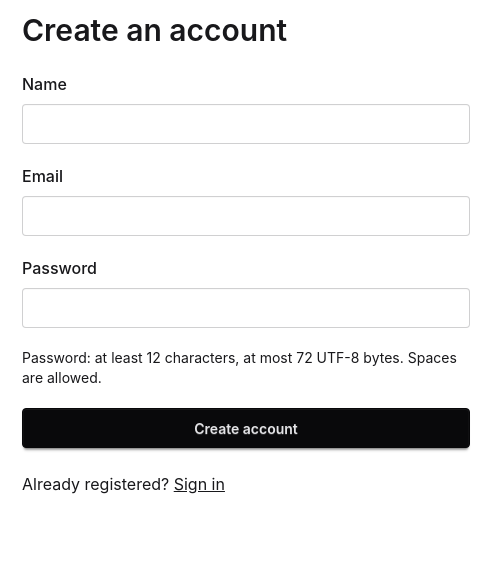
Test: submits labeled registration fields and displays server field errors
Type "Example" into the field labelled "Name". click: (246, 124)
box: left=22, top=104, right=470, bottom=144
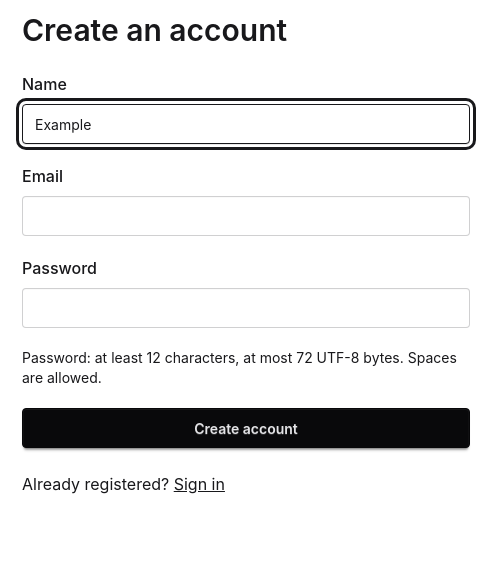
Type "example@example.com" into the field labelled "Email". click: (246, 216)
box: left=22, top=196, right=470, bottom=236
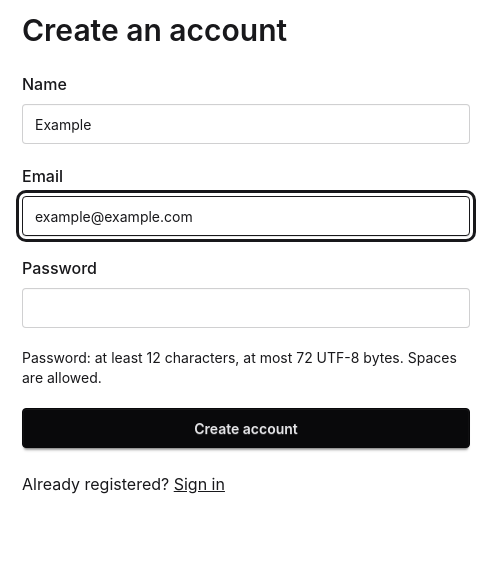
Type "a-long-test-password" into the password field labelled "Password". click: (246, 308)
box: left=22, top=288, right=470, bottom=328
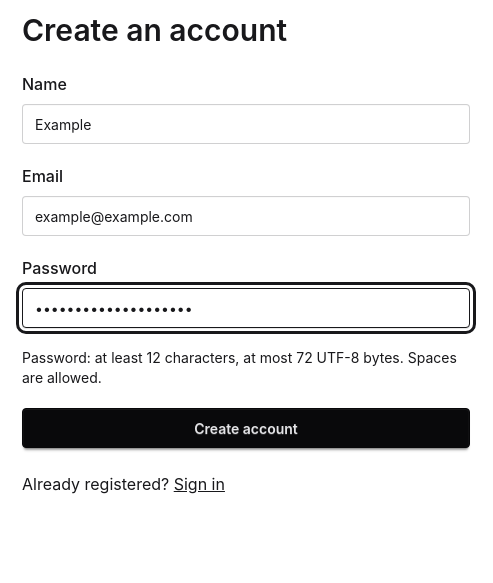
Click the button "Create account". click: (246, 428)
box: left=22, top=408, right=470, bottom=448
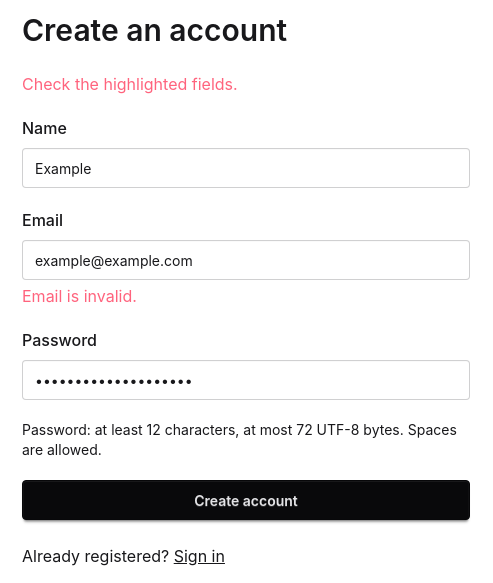
Expected: the button is enabled, left=22, top=480, right=470, bottom=520
Expected: the text "Email is invalid." is shown, left=22, top=286, right=137, bottom=306
